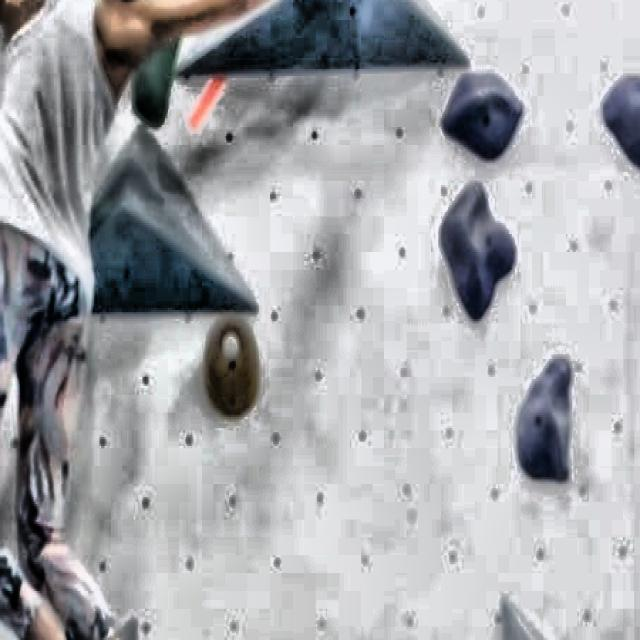Downclimb: (205, 314, 259, 416)
Hold: (441, 183, 516, 321), (442, 71, 523, 161), (516, 357, 572, 479), (603, 76, 640, 170)
Unknown: (131, 40, 178, 127)
Volume: (87, 125, 261, 320), (174, 0, 467, 72)
start_tag: (191, 78, 225, 126)
